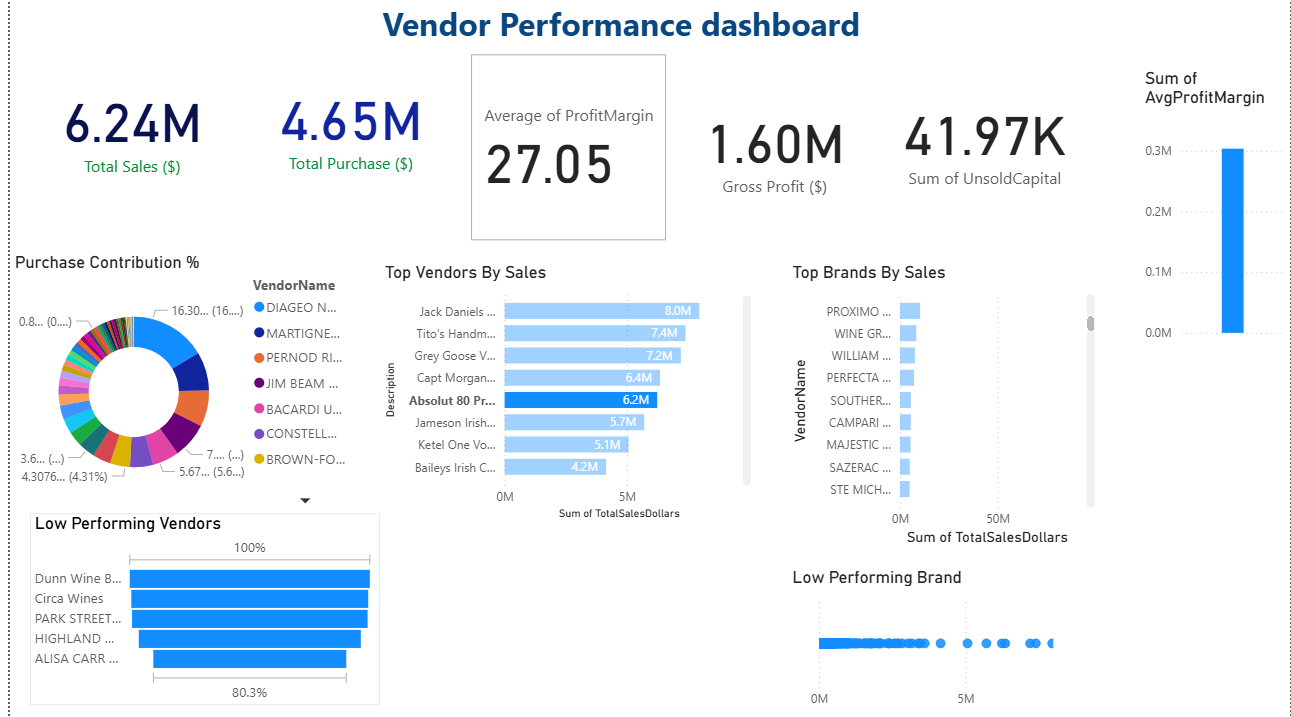

This screenshot's page, from the dashboard's own definition file:
{"tool":"powerbi","page":{"name":"Page 1","canvas":[1280,720],"ordinal":0},"visuals":[{"type":"card","fields":{"Values":["Sum(vendor_sales_summary.TotalSalesDollars)"]},"box":[10,21.2,225,217.5],"z":0},{"type":"card","fields":{"Values":["Sum(vendor_sales_summary.TotalPurchaseDollars)"]},"box":[235,21.2,212.5,212.5],"z":1000},{"type":"card","fields":{"Values":["Sum(vendor_sales_summary.GrossProfit)"]},"box":[661.2,62.5,207.5,176.2],"z":2000},{"type":"card","fields":{"Values":["Sum(vendor_summary_data.UnsoldCapital)"]},"box":[878.8,55,192.5,175],"z":3000},{"type":"donutChart","title":"Purchase Contribution %","fields":{"Y":["Sum(PurchaseContribution.PurchaseContribution%)"],"Category":["PurchaseContribution.VendorName"]},"box":[0,255,350,261.2],"z":4000},{"type":"barChart","title":"Top Vendors By Sales","fields":{"Category":["vendor_summary_data.Description"],"Y":["Sum(vendor_summary_data.TotalSalesDollars)"]},"box":[370,265,376.2,262.5],"z":5000},{"type":"cardVisual","title":"G","fields":{"Data":["Avg(vendor_summary_data.ProfitMargin)"]},"box":[456.2,52.5,205,196.2],"z":6000},{"type":"barChart","title":"Top Brands By Sales","fields":{"Category":["vendor_summary_data.VendorName"],"Y":["Sum(vendor_summary_data.TotalSalesDollars)"]},"box":[777.5,265,312.5,288.8],"z":7000},{"type":"funnel","title":"Low Performing Vendors","fields":{"Category":["LowTurnoverVendor.VendorName"],"Y":["Avg(LowTurnoverVendor.AvgStockTurnOver)"]},"box":[20,516.2,350,192.5],"z":8000},{"type":"scatterChart","title":"Low Performing Brand","fields":{"Category":["BrandPerformance.Description"],"X":["Sum(BrandPerformance.TotalSales)"]},"box":[778,570,280,150],"z":9000},{"type":"clusteredColumnChart","fields":{"Y":["Sum(BrandPerformance.AvgProfitMargin)"]},"box":[1130,71.2,150,278.8],"z":10000},{"type":"textbox","box":[288.8,0,645,52.5],"z":11000}]}

Visuals, with their boxes in screenshot pixels (x1, y1, x2, y2), scaled from the page's 1280x720 canvas onto the 1291x717 screenshot:
card - Sum(vendor_sales_summary.TotalSalesDollars): (x1=10, y1=21, x2=237, y2=238)
card - Sum(vendor_sales_summary.TotalPurchaseDollars): (x1=237, y1=21, x2=451, y2=233)
card - Sum(vendor_sales_summary.GrossProfit): (x1=667, y1=62, x2=876, y2=238)
card - Sum(vendor_summary_data.UnsoldCapital): (x1=886, y1=55, x2=1081, y2=229)
"Purchase Contribution %" donutChart: (x1=0, y1=254, x2=353, y2=514)
"Top Vendors By Sales" barChart: (x1=373, y1=264, x2=753, y2=525)
"G" cardVisual: (x1=460, y1=52, x2=667, y2=248)
"Top Brands By Sales" barChart: (x1=784, y1=264, x2=1099, y2=551)
"Low Performing Vendors" funnel: (x1=20, y1=514, x2=373, y2=706)
"Low Performing Brand" scatterChart: (x1=785, y1=568, x2=1067, y2=716)
clusteredColumnChart - Sum(BrandPerformance.AvgProfitMargin): (x1=1140, y1=71, x2=1290, y2=349)
textbox: (x1=291, y1=0, x2=942, y2=52)
